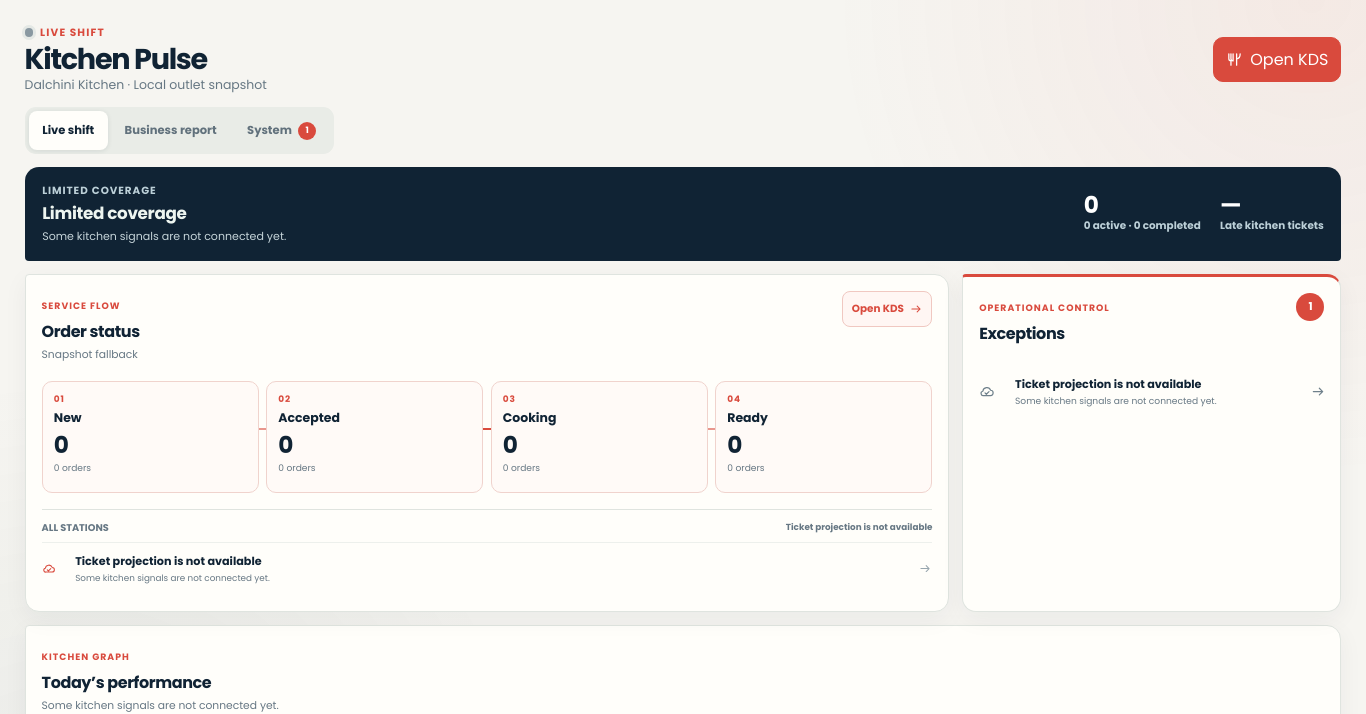
Scenario: Service board › uses an explicit business-report mode for verified financial facts
Click the tab "Business report".
click(171, 131)  # box 111,111 -> 230,150
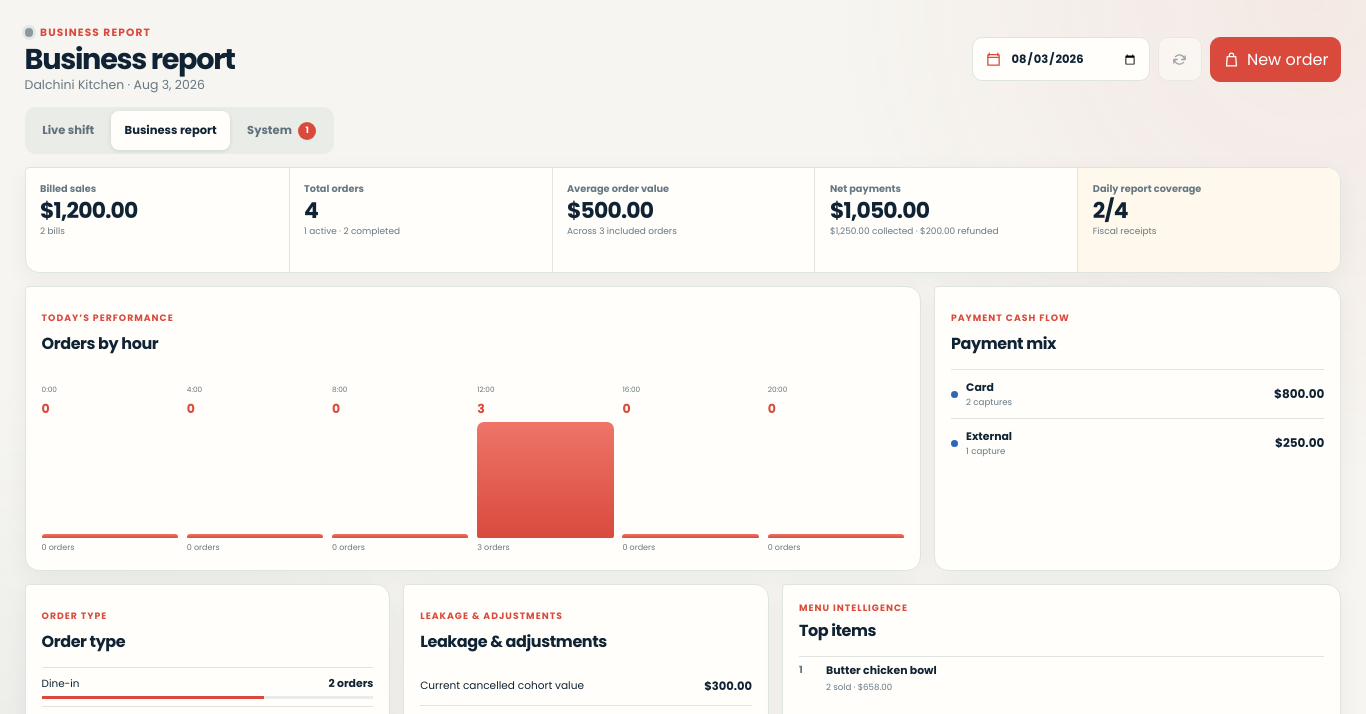
Expected: the heading "Business report" is shown, 25,44 -> 235,74
Expected: the text "Billed sales" is shown, 40,182 -> 96,195
Expected: the text "$1,200.00" is shown, 40,195 -> 138,226
